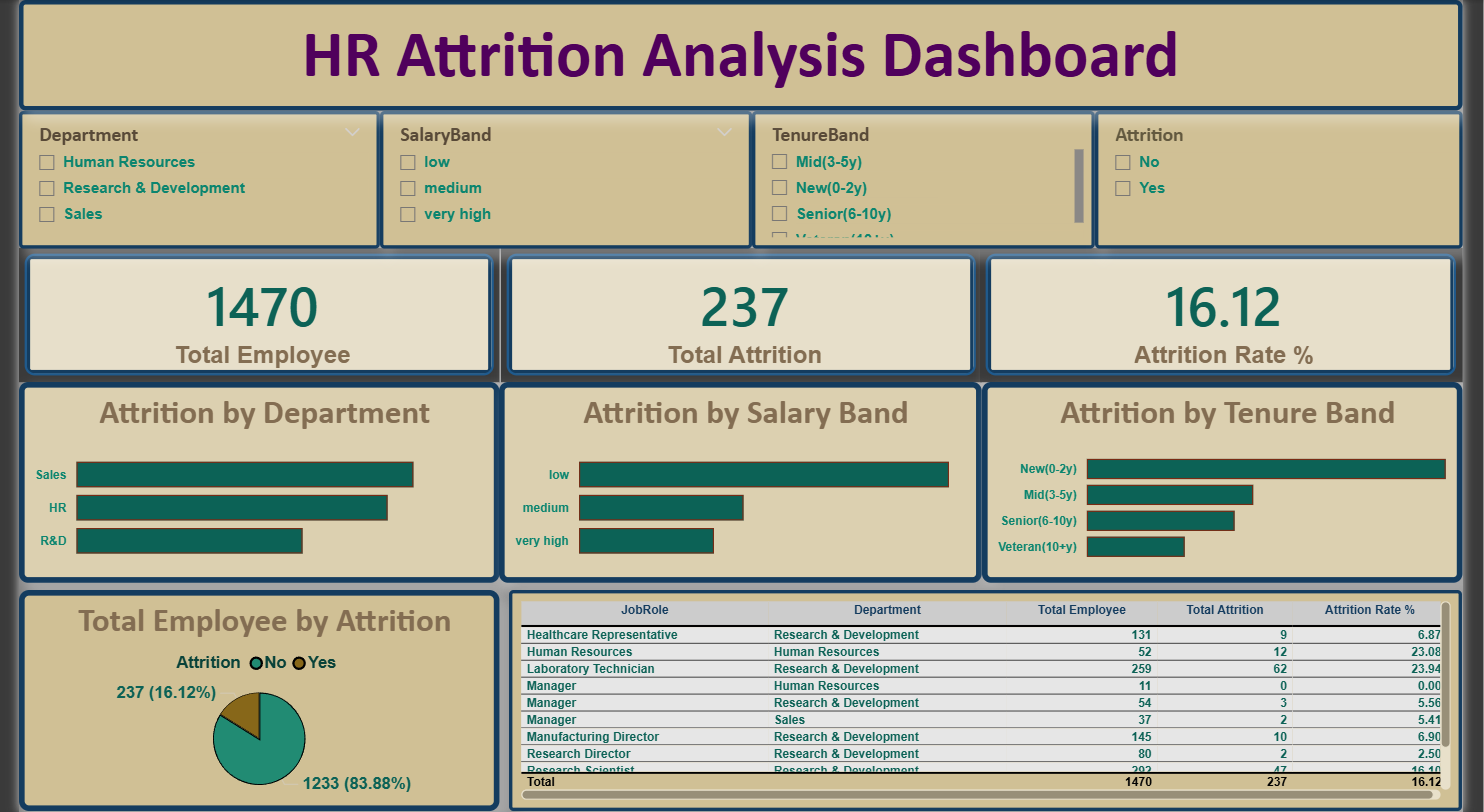

Layout of this report page (visuals, bound fields, positions):
{"tool":"powerbi","page":{"name":"Page 1","canvas":[1280,720],"ordinal":0},"visuals":[{"type":"cardVisual","fields":{"Data":["hr_clean_data.Total Employee"]},"box":[0,219.8,426,118.7],"z":0},{"type":"cardVisual","fields":{"Data":["hr_clean_data.Total Attrition"]},"box":[427,219.8,426,118.7],"z":1000},{"type":"cardVisual","fields":{"Data":["hr_clean_data.Attrition Rate %"]},"box":[852,219.8,428,118.7],"z":2000},{"type":"clusteredBarChart","title":"Attrition by Department","fields":{"Y":["hr_clean_data.Attrition Rate %"],"Category":["hr_clean_data.Department Short"]},"box":[0,338.5,426,178],"z":3000},{"type":"clusteredBarChart","title":"Attrition by Salary Band","fields":{"Y":["hr_clean_data.Attrition Rate %"],"Category":["hr_clean_data.SalaryBand"]},"box":[426,338.5,428,178],"z":4000},{"type":"clusteredBarChart","title":"Attrition by Tenure Band","fields":{"Y":["hr_clean_data.Attrition Rate %"],"Category":["hr_clean_data.TenureBand"]},"box":[854,338.5,426,178],"z":5000},{"type":"pieChart","fields":{"Category":["hr_clean_data.Attrition"],"Y":["hr_clean_data.Total Employee"]},"box":[0,523.3,426,196.5],"z":6000},{"type":"tableEx","fields":{"Values":["hr_clean_data.JobRole","hr_clean_data.Department","hr_clean_data.Total Employee","hr_clean_data.Total Attrition","hr_clean_data.Attrition Rate %"]},"box":[434.8,523.3,845.2,196.5],"z":7000},{"type":"slicer","fields":{"Values":["hr_clean_data.Department"]},"box":[0,98.2,320,121.6],"z":8000},{"type":"slicer","fields":{"Values":["hr_clean_data.SalaryBand"]},"box":[320,98.2,329.7,121.6],"z":9000},{"type":"slicer","fields":{"Values":["hr_clean_data.TenureBand"]},"box":[649.7,98.2,304.4,121.6],"z":10000},{"type":"slicer","fields":{"Values":["hr_clean_data.Attrition"]},"box":[954.2,98.2,325.8,121.6],"z":11000},{"type":"textbox","box":[0,0,1280,98.2],"z":12000}]}

Visuals, with their boxes in screenshot pixels (x1, y1, x2, y2), scaled from the page's 1280x720 canvas onto the 1484x812 screenshot:
cardVisual - hr_clean_data.Total Employee: box(0, 248, 494, 382)
cardVisual - hr_clean_data.Total Attrition: box(495, 248, 989, 382)
cardVisual - hr_clean_data.Attrition Rate %: box(988, 248, 1483, 382)
"Attrition by Department" clusteredBarChart: box(0, 382, 494, 582)
"Attrition by Salary Band" clusteredBarChart: box(494, 382, 990, 582)
"Attrition by Tenure Band" clusteredBarChart: box(990, 382, 1483, 582)
pieChart - hr_clean_data.Attrition x hr_clean_data.Total Employee: box(0, 590, 494, 811)
tableEx - hr_clean_data.JobRole x hr_clean_data.Department: box(504, 590, 1483, 811)
slicer - hr_clean_data.Department: box(0, 111, 371, 248)
slicer - hr_clean_data.SalaryBand: box(371, 111, 753, 248)
slicer - hr_clean_data.TenureBand: box(753, 111, 1106, 248)
slicer - hr_clean_data.Attrition: box(1106, 111, 1483, 248)
textbox: box(0, 0, 1483, 111)
